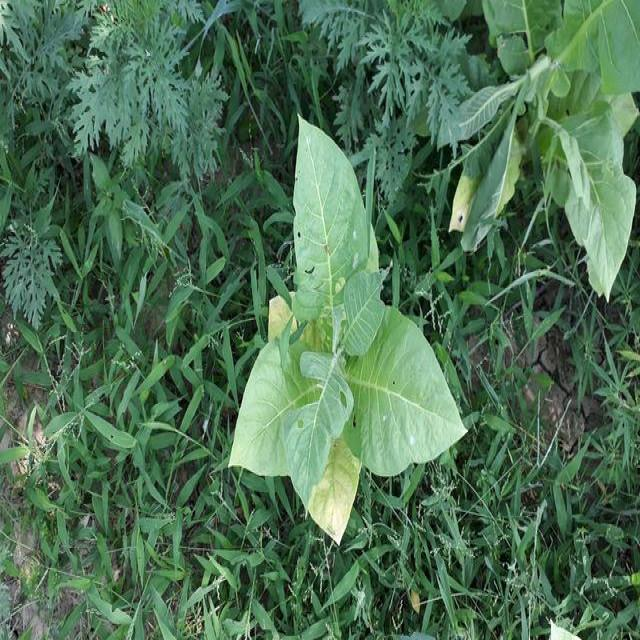crop: (222, 119, 468, 552)
